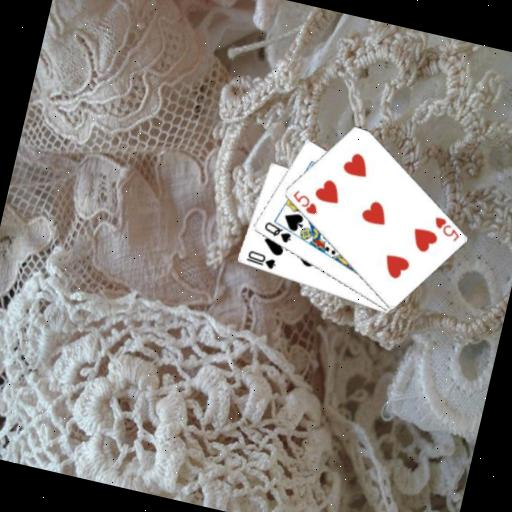10S: (242, 246, 279, 272)
5H: (427, 213, 464, 245), (287, 186, 323, 217)
QS: (258, 218, 295, 246)
